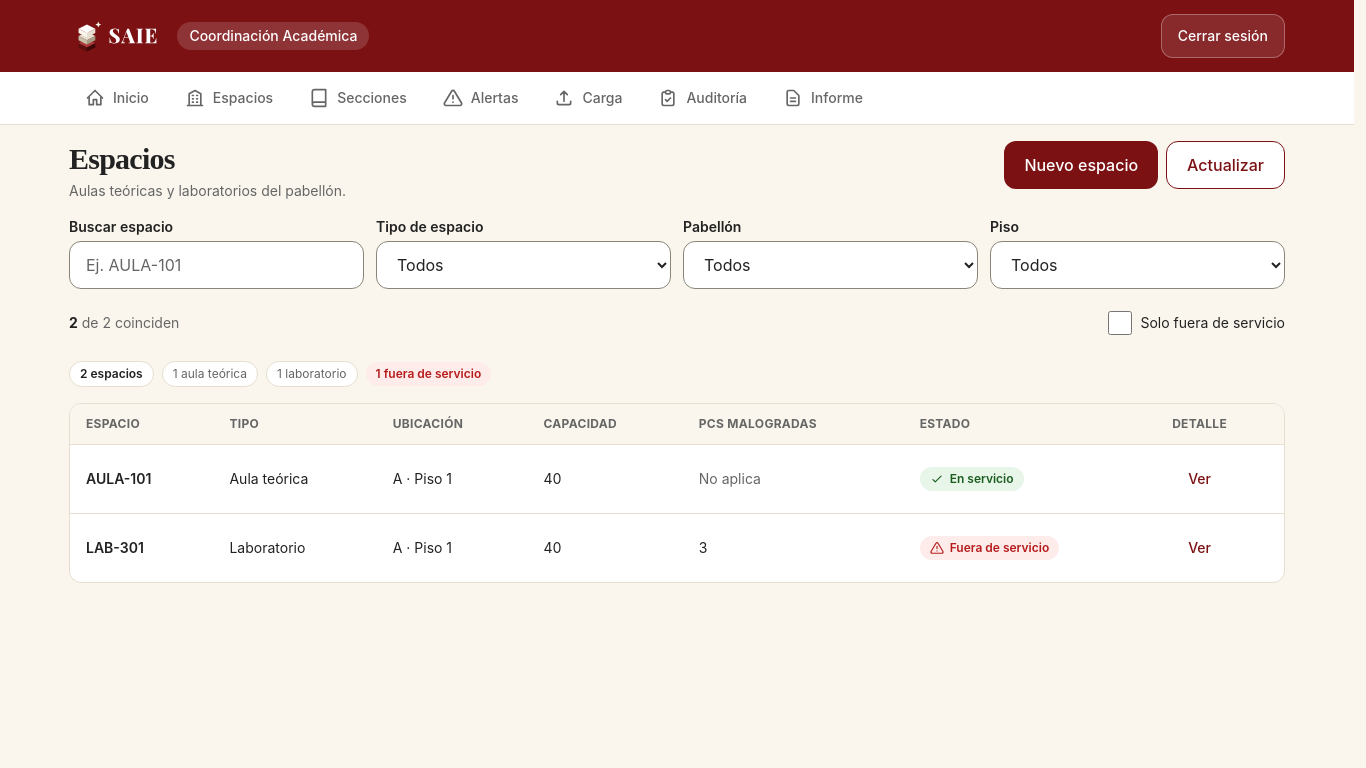
Test case: Gestión de espacios (Issue 4.15) › filtra solo los espacios deshabilitados
The width and height of the screenshot is (1366, 768).
expect the text "AULA-101" is shown: met, box x1=70 y1=444 x2=213 y2=514
Click the checkbox labelled "Solo fuera de servicio": {"x": 1120, "y": 323} x1=1108 y1=311 x2=1132 y2=335
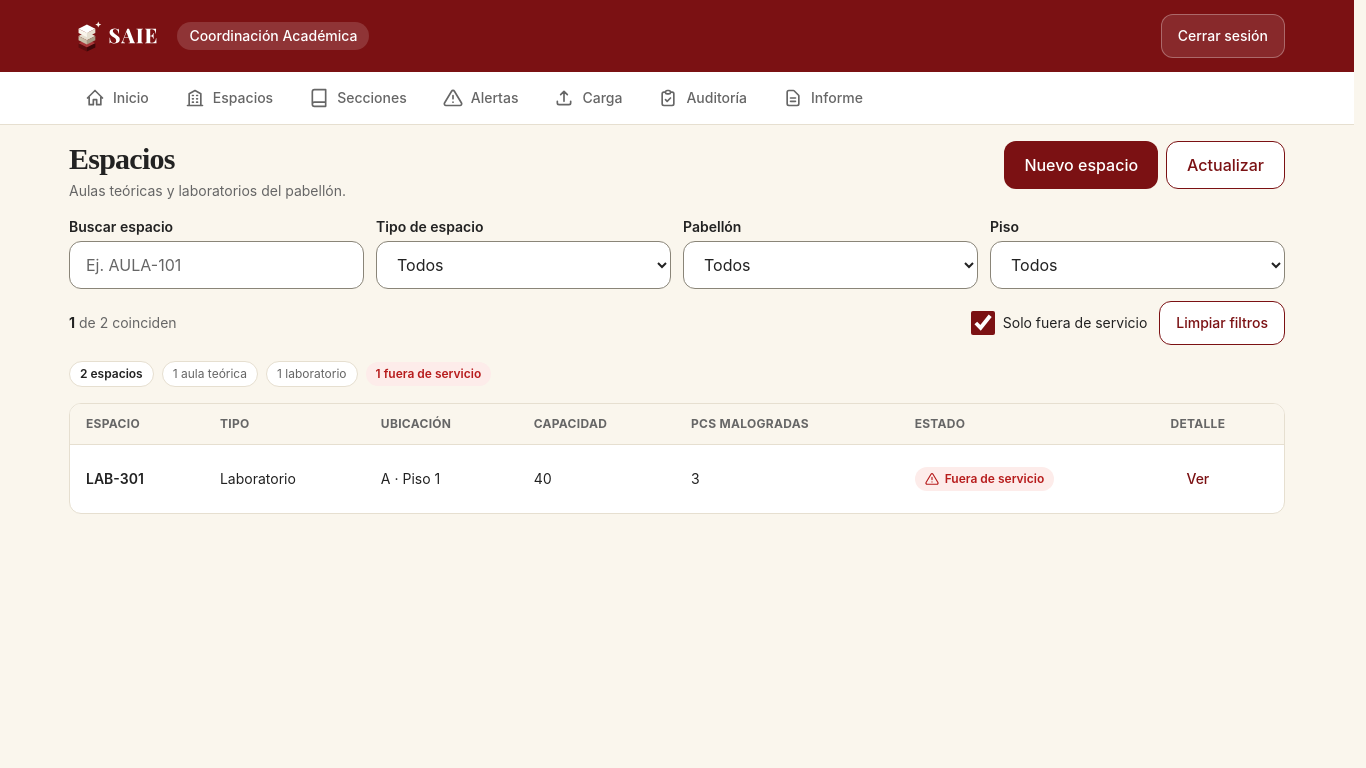
expect the text "LAB-301" is shown: met, box x1=70 y1=444 x2=204 y2=513
expect the text "1 de 2 coinciden" is shown: met, box x1=69 y1=313 x2=177 y2=333
